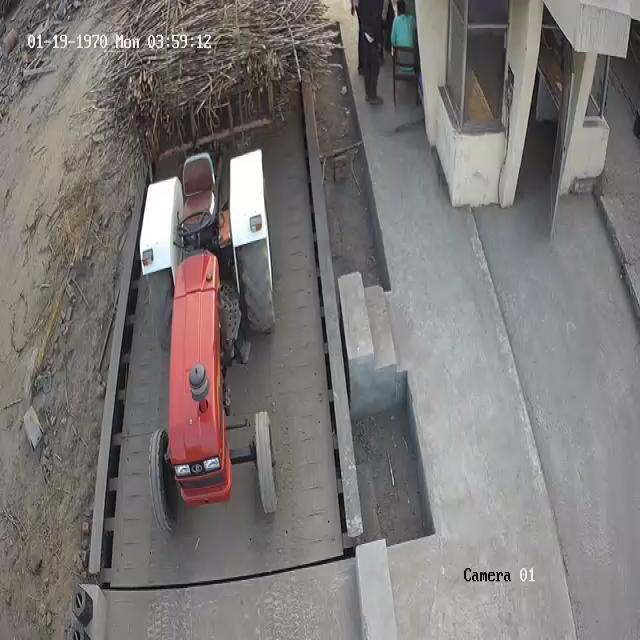Tratores - v5 YOLO V8L 2024-11-13: (145, 167, 281, 510)
